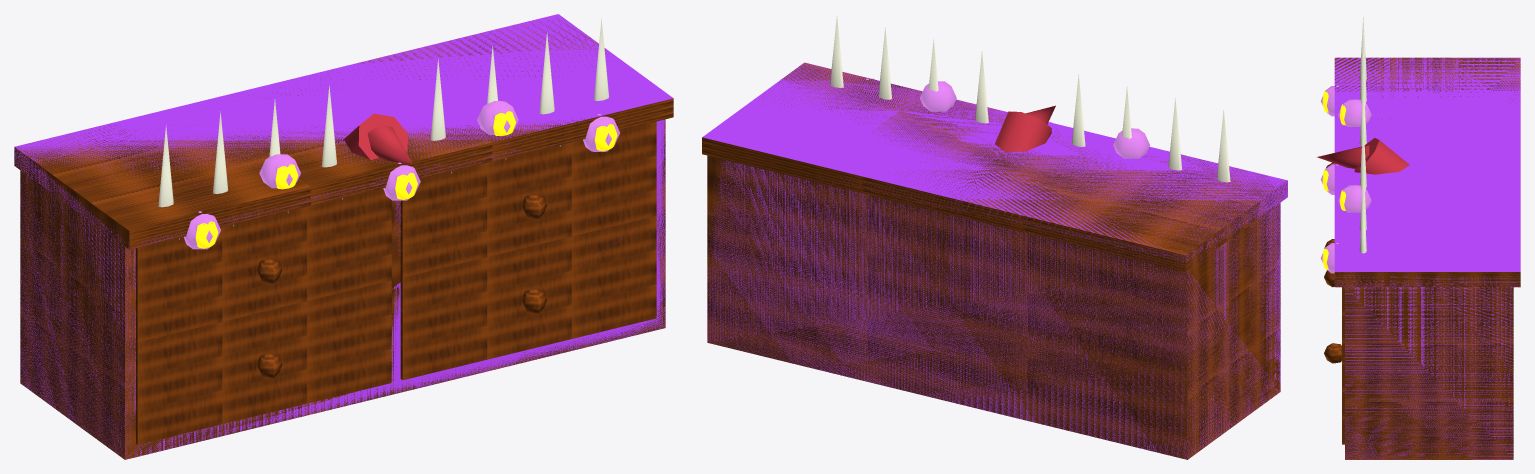
The model's file is drawers.gltf.
The picture shows the model from 3 angles, left to right: view 1: azimuth 30°, elevation 25°; view 2: azimuth 150°, elevation 25°; view 3: azimuth 270°, elevation 25°; orthographic projection. The views are drawn at different scales.
Parts seen in each view (by area): view 1: CSGBox3D2, CSGBox3D6, CSGBox3D4, CSGCylinder3D2, Eye52, Eye42, Eye32, Eye2, Eye23, Tooth32, Tooth52, Tooth2 (+3 smaller); view 2: CSGBox3D2, CSGBox3D6, CSGBox3D4, CSGCylinder3D2, Eye52, Eye42; view 3: CSGBox3D6, CSGBox3D2, CSGBox3D4, CSGCylinder3D2, Eye52, Eye42, Eye2, Eye23, Eye32, Tooth42, Tooth82.
Boxes of the visible parts, x1,y1,x2,y2 form: CSGBox3D2: (20,119,665,459); CSGBox3D6: (14,14,673,459); CSGBox3D4: (14,17,673,249); CSGCylinder3D2: (344,113,412,163); Eye52: (259,154,300,189); Eye42: (477,101,518,136); Eye32: (183,211,220,249); Eye2: (383,162,420,200); Eye23: (583,114,619,151); Tooth32: (539,32,554,114); Tooth52: (158,124,173,207); Tooth2: (430,58,445,140); CSGBox3D2: (707,155,1280,459); CSGBox3D6: (702,62,1287,459); CSGBox3D4: (702,63,1287,271); CSGCylinder3D2: (995,105,1055,151); Eye52: (1113,128,1150,158); Eye42: (920,81,956,111); CSGBox3D6: (1334,57,1520,459); CSGBox3D2: (1324,162,1513,459); CSGBox3D4: (1334,57,1520,287); CSGCylinder3D2: (1317,138,1409,174); Eye52: (1338,99,1371,126); Eye42: (1338,185,1371,212); Eye2: (1320,164,1338,194); Eye23: (1320,243,1338,273); Eye32: (1321,85,1338,116); Tooth42: (1359,188,1366,253); Tooth82: (1359,81,1366,145).
Size of the model in its own units: 3 by 1.66 by 1.21.
Materials: 6 (1 with a texture image).
